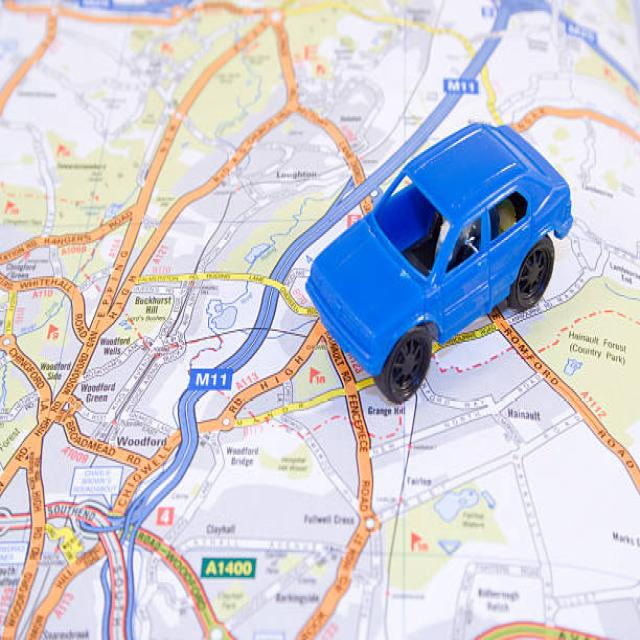Car: (304, 119, 573, 405)
